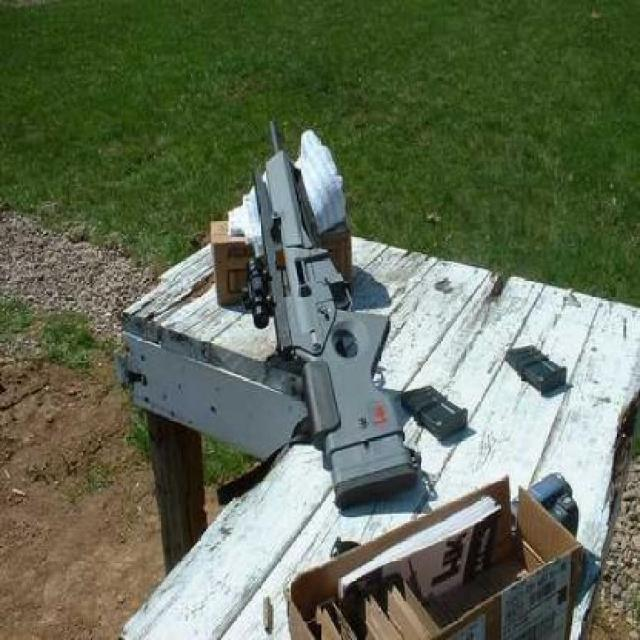weapon: (253, 123, 422, 504)
